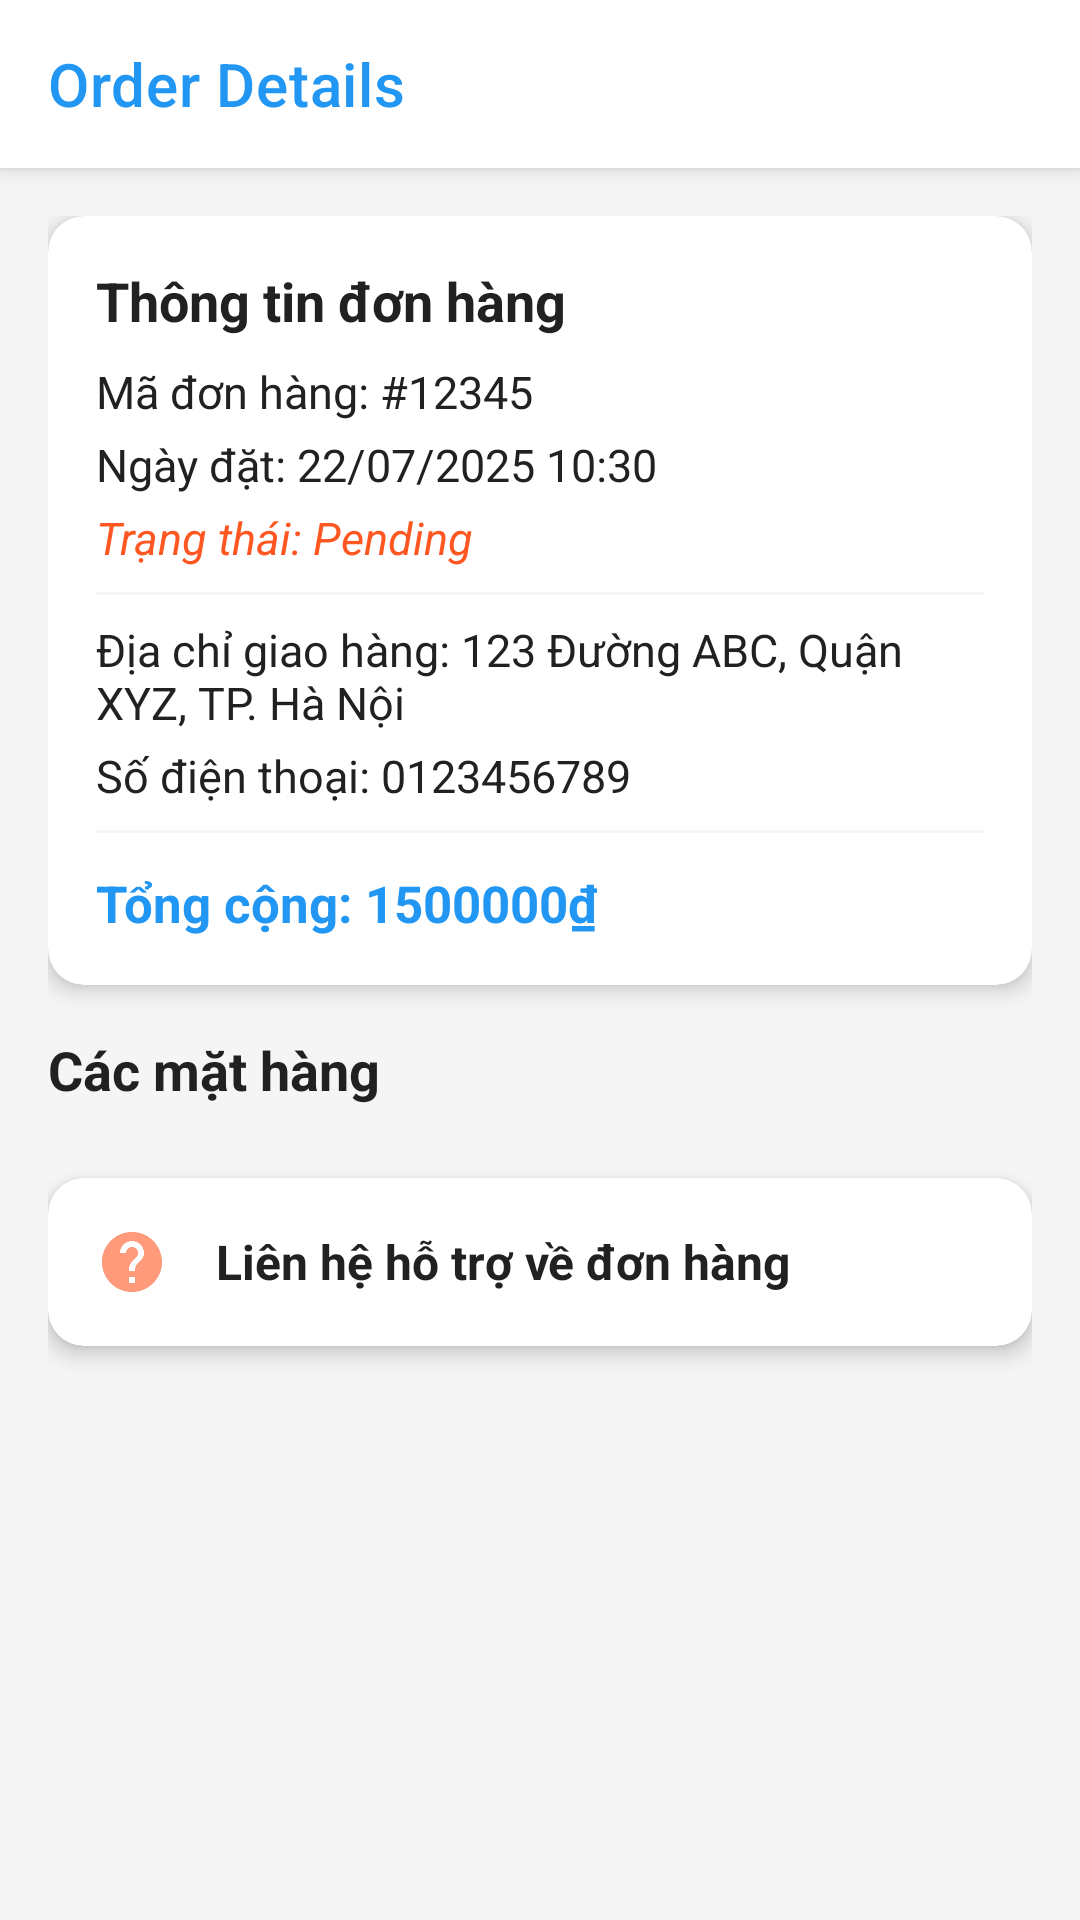

Screen size 1080px x 1920px. Icon name, then its center in pixels as (x,y):
help: (132,1262)
